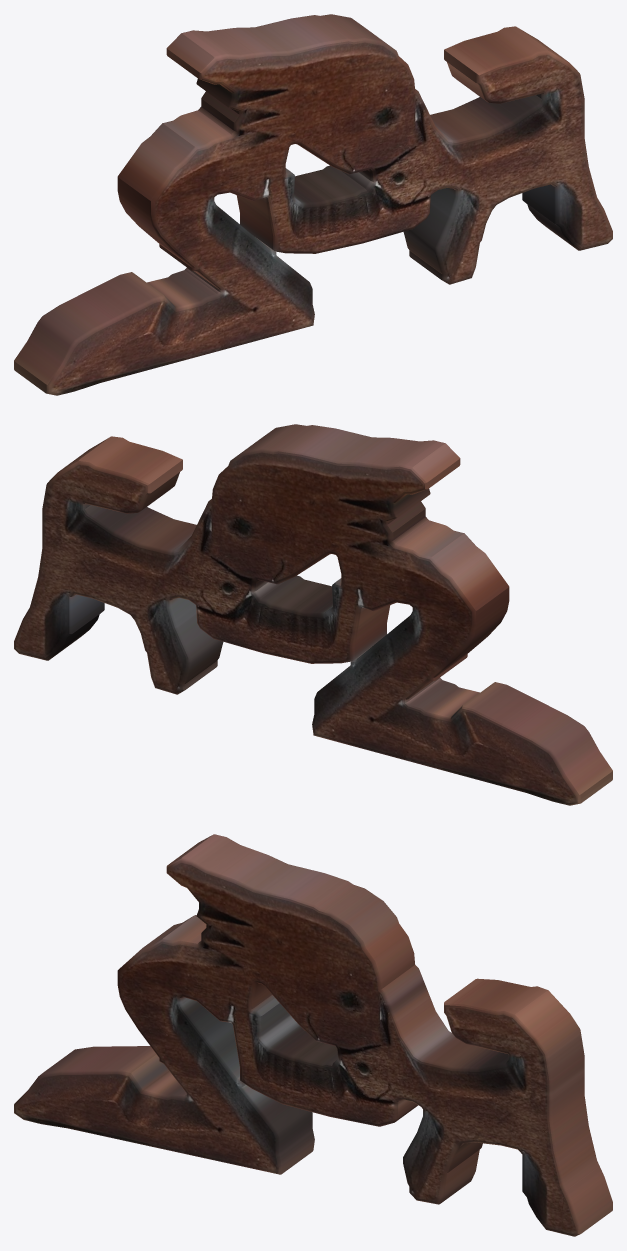
The model's file is you-and-your-dog.glb.
3 views of the same model, one above another, from view 1: azimuth 30°, elevation 25°; view 2: azimuth 150°, elevation 25°; view 3: azimuth 330°, elevation 25° (orthographic).
Parts seen in each view (by area): view 1: You and your dog figurine; view 2: You and your dog figurine; view 3: You and your dog figurine.
Part boxes in pixels (x1,y1,x2,y2): You and your dog figurine: (14,14,612,395); You and your dog figurine: (14,424,612,805); You and your dog figurine: (14,834,612,1236).
Bounding box in the file's own units: 0.1977 × 0.1002 × 0.0214.
Materials: 1 (1 with a texture image).
